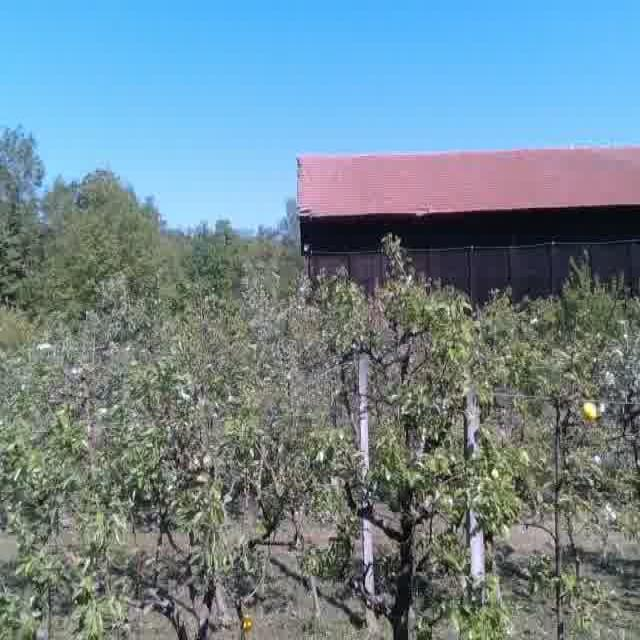yellow: (581, 398, 602, 424), (239, 616, 259, 634)
